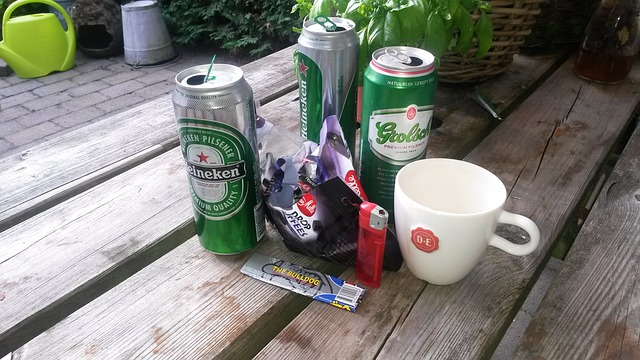can: (161, 49, 270, 262), (360, 41, 448, 159), (283, 9, 360, 142)
